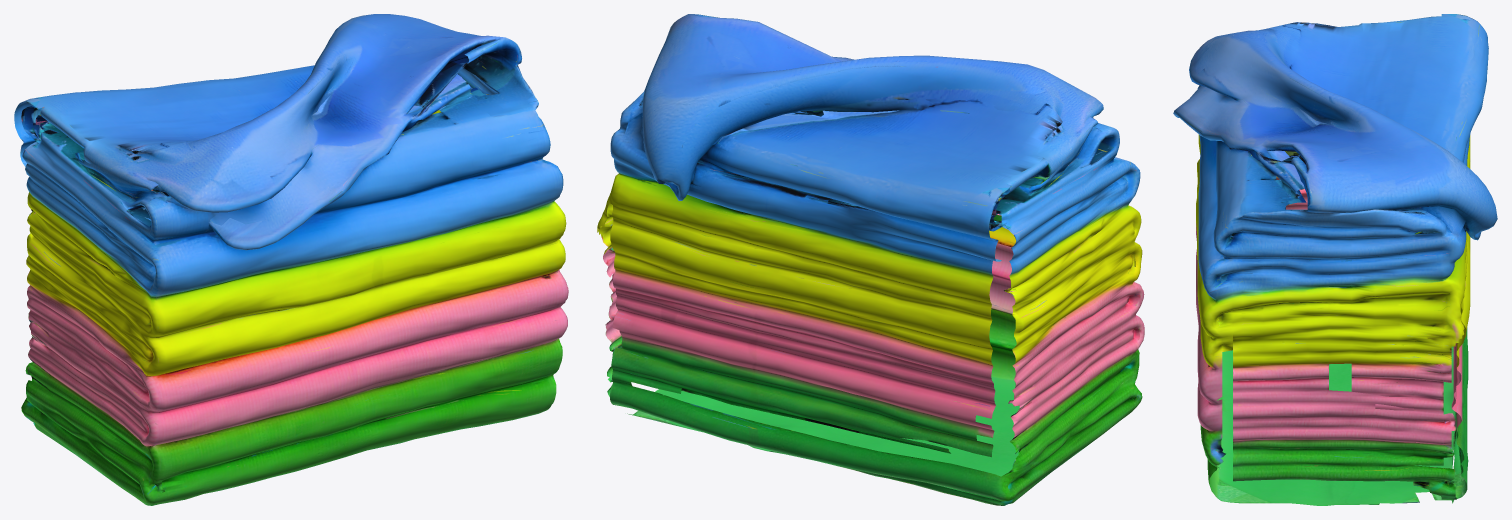
Rendered from Meshy_AI_Colorful_Cleaning_Clo_0107154929_texture.fbx.
The picture shows the model from 3 angles, left to right: view 1: azimuth 30°, elevation 25°; view 2: azimuth 150°, elevation 25°; view 3: azimuth 270°, elevation 25°; orthographic projection. The views are drawn at different scales.
Parts seen in each view (by area): view 1: Mesh_0; view 2: Mesh_0; view 3: Mesh_0.
Boxes of the visible parts, bbox=[...] form: Mesh_0: bbox=[14, 14, 568, 505]; Mesh_0: bbox=[597, 14, 1144, 505]; Mesh_0: bbox=[1173, 14, 1497, 505].
Size of the model in its own units: 190 by 151 by 130.
Materials: 1 (1 with a texture image).
